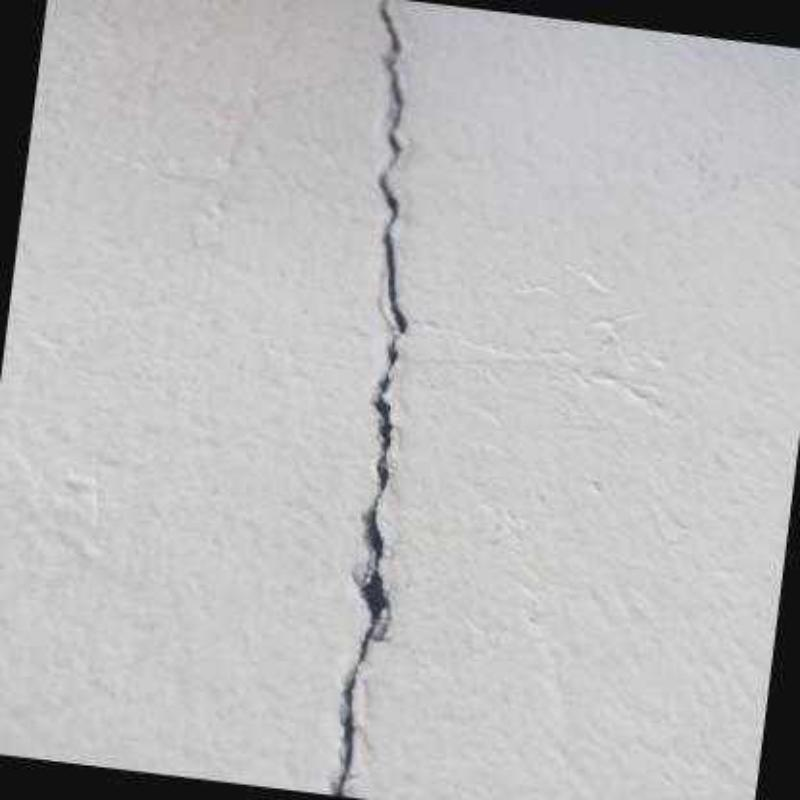pothole: (331, 0, 408, 798)
